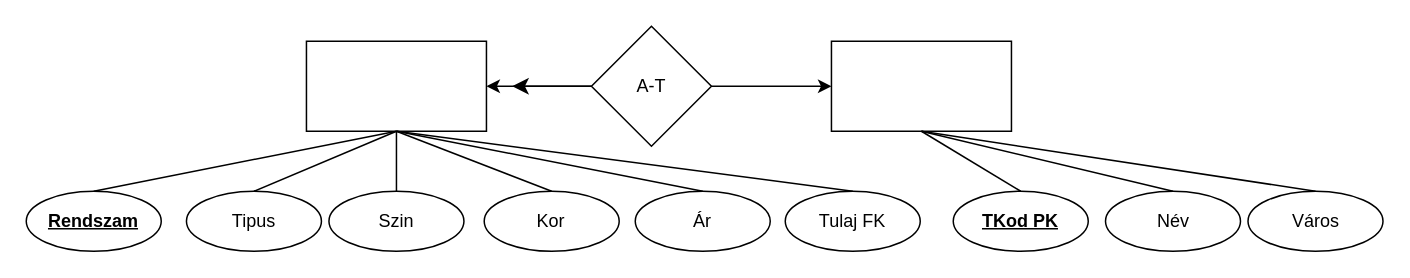
Some shapes in this 1410 by 278 pixel diagram are drawn without their labels. Here are the shapes that lost their labels. From the top down, the centre of each, then its label:
the point at 395,85: Auto
the point at 920,85: Tulajdonos
